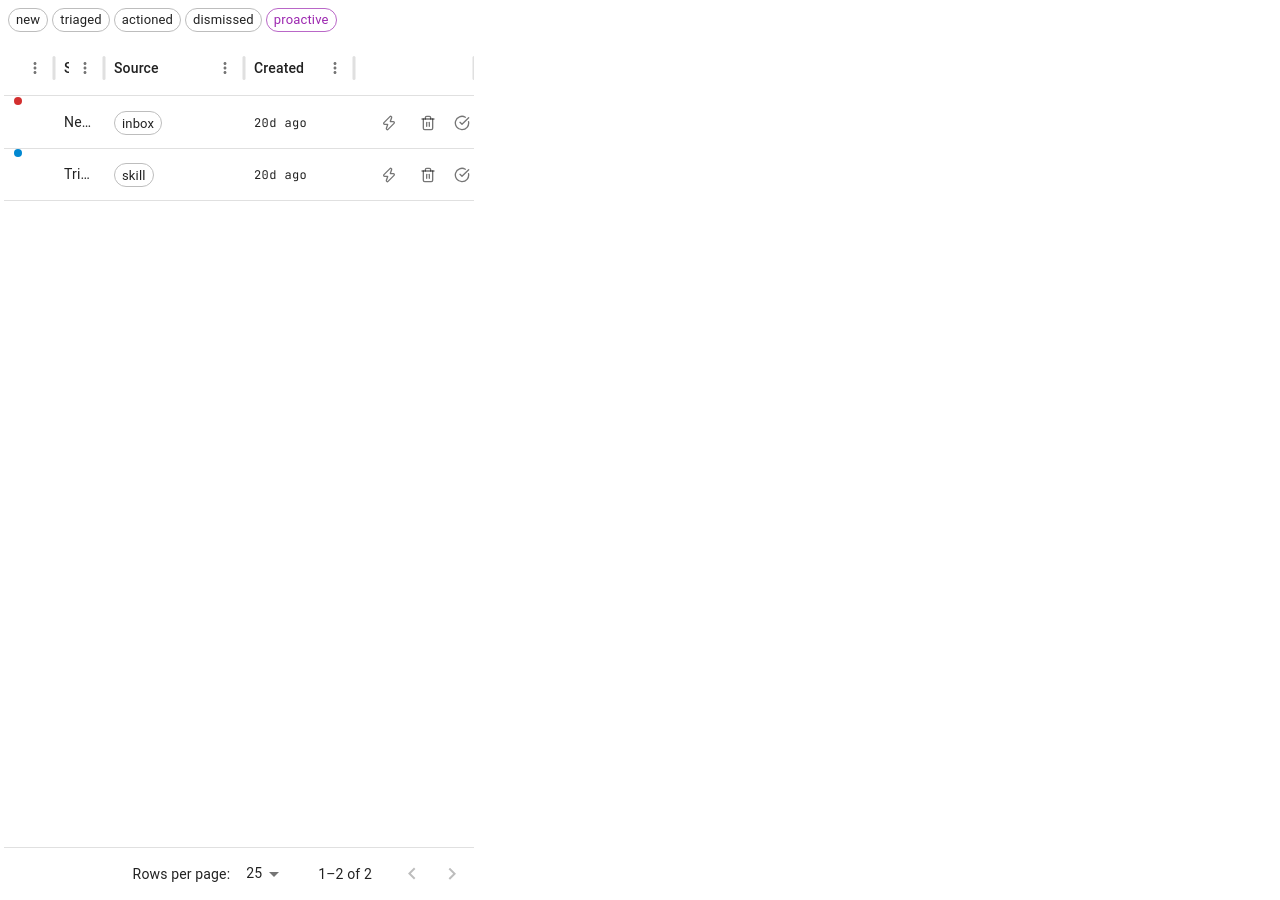
Test: FeedInboxSection › opens ResponseDetailModal when a signal title is clicked
Click the button "New one" at (92, 122), box [64,114,120,130]
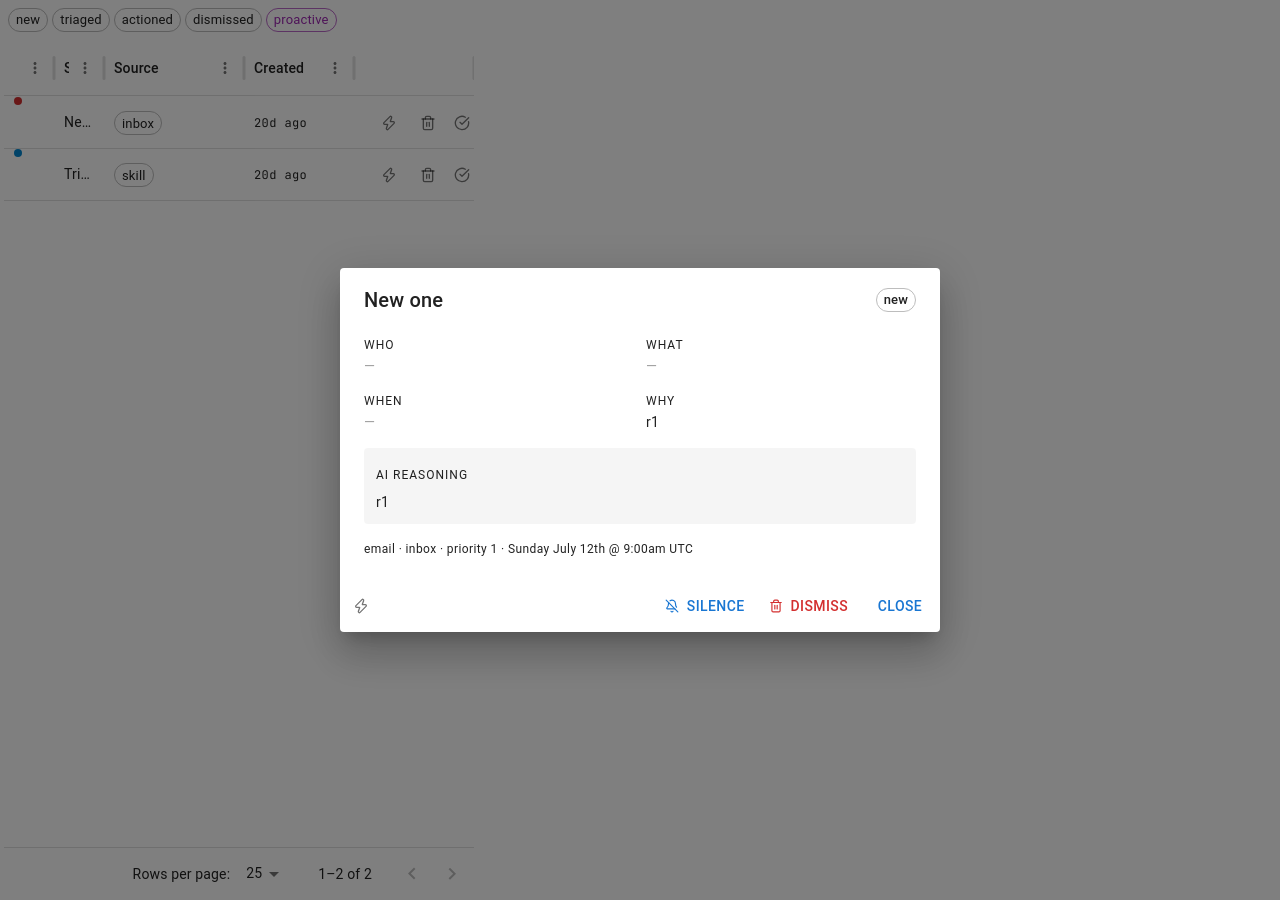
Check: the text "AI Reasoning" is shown, box [376,468,468,482]
